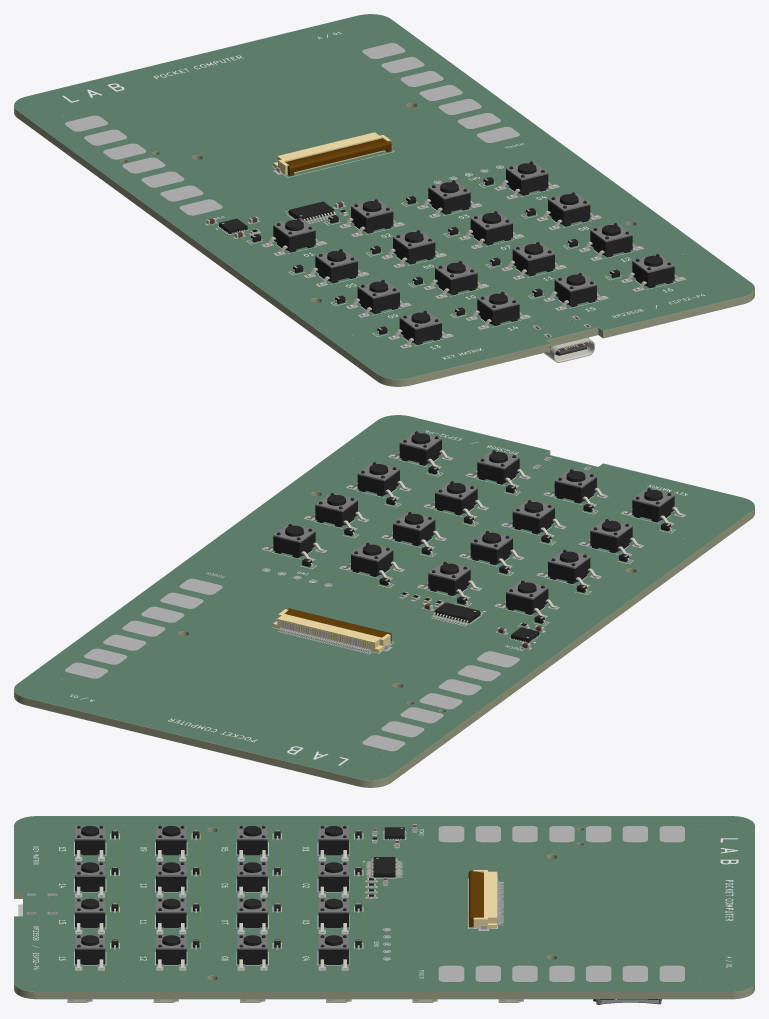
Rendered from LAB-Pocket.glb.
3 views of the same model, one above another, from view 1: azimuth 30°, elevation 25°; view 2: azimuth 150°, elevation 25°; view 3: azimuth 270°, elevation 25° (orthographic). The views are drawn at different scales.
Visible parts, largest first — view 1: =>[0:1:1:40], =>[0:1:1:42], =>[0:1:1:5] (×16), =>[0:1:1:36], =>[0:1:1:38], lock, body, =>[0:1:1:26], =>[0:1:1:13]; view 2: =>[0:1:1:40], =>[0:1:1:42], =>[0:1:1:5] (×16), =>[0:1:1:36], =>[0:1:1:38], body, pins, lock, =>[0:1:1:13]; view 3: =>[0:1:1:40], =>[0:1:1:42], =>[0:1:1:5] (×16), =>[0:1:1:36], =>[0:1:1:38], body, lock, =>[0:1:1:41], =>[0:1:1:13].
Part boxes in pixels (x1,y1,x2,y2): =>[0:1:1:40]: (14, 14, 754, 379); =>[0:1:1:42]: (14, 15, 754, 386); =>[0:1:1:5] (×16): (265, 161, 682, 347); =>[0:1:1:36]: (65, 43, 686, 348); =>[0:1:1:38]: (62, 31, 705, 359); lock: (285, 138, 391, 175); body: (273, 132, 390, 175); =>[0:1:1:26]: (544, 337, 594, 362); =>[0:1:1:13]: (286, 201, 335, 222); =>[0:1:1:40]: (14, 415, 754, 780); =>[0:1:1:42]: (14, 416, 754, 787); =>[0:1:1:5] (×16): (265, 431, 682, 616); =>[0:1:1:36]: (65, 454, 685, 751); =>[0:1:1:38]: (70, 430, 687, 765); body: (273, 609, 390, 652); pins: (276, 618, 389, 652); lock: (285, 608, 391, 641); =>[0:1:1:13]: (432, 602, 482, 625); =>[0:1:1:40]: (14, 816, 754, 991); =>[0:1:1:42]: (14, 817, 754, 998); =>[0:1:1:5] (×16): (75, 825, 348, 969); =>[0:1:1:36]: (27, 826, 684, 981); =>[0:1:1:38]: (32, 829, 738, 978); body: (473, 870, 497, 928); lock: (468, 870, 483, 926); =>[0:1:1:41]: (14, 898, 754, 999); =>[0:1:1:13]: (368, 857, 400, 877).
Size of the model in its own units: 0.082 by 0.00929 by 0.146.
